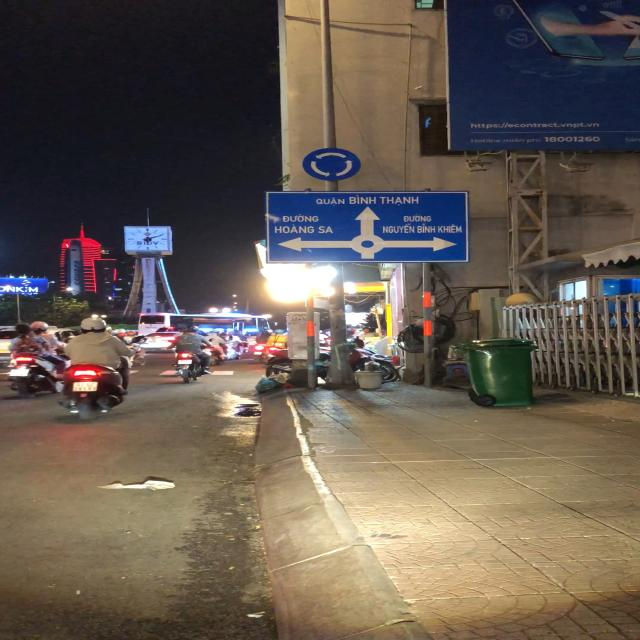Bien bao noi giao nhau chay theo vong xuyen: (301, 145, 363, 182)
